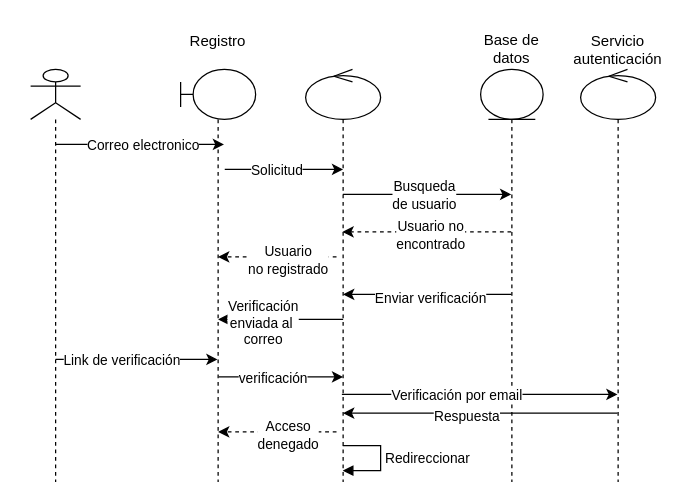
This 684x504 diagram has some shape labels left out. The shapes that lost their labels are listed below. From the top down, each one's box as (x1, y1, x2, y2) in pixels, then its label:
(29, 68, 81, 482): USUARIO
(304, 68, 381, 482): Verificar correo electrónico
